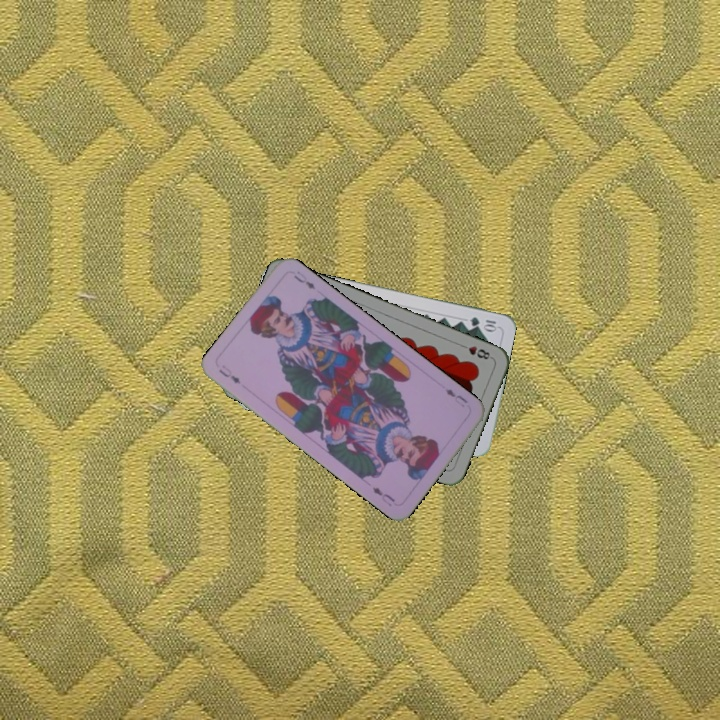EU: (441, 384, 470, 410), (215, 361, 243, 387)
G10: (466, 313, 499, 333)
H8: (456, 340, 495, 362)
